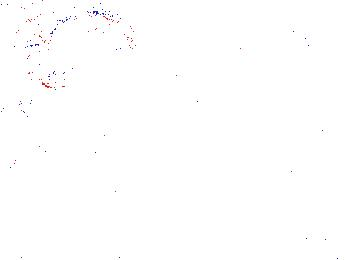moon jellyfish: (36, 14, 138, 89), (203, 19, 313, 81), (102, 29, 193, 73), (1, 13, 52, 89)
